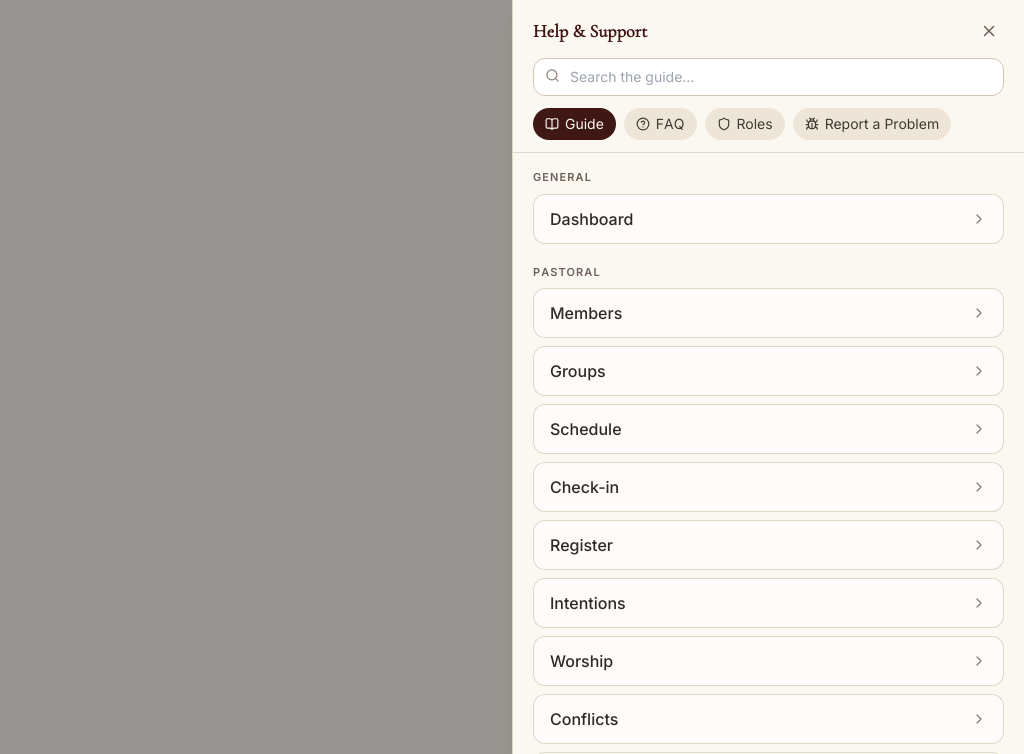
Test: earlier reports › says nothing when the list is genuinely empty
The image size is (1024, 754).
Click the button "Report a Problem" at (872, 124), box [793,108,951,140]
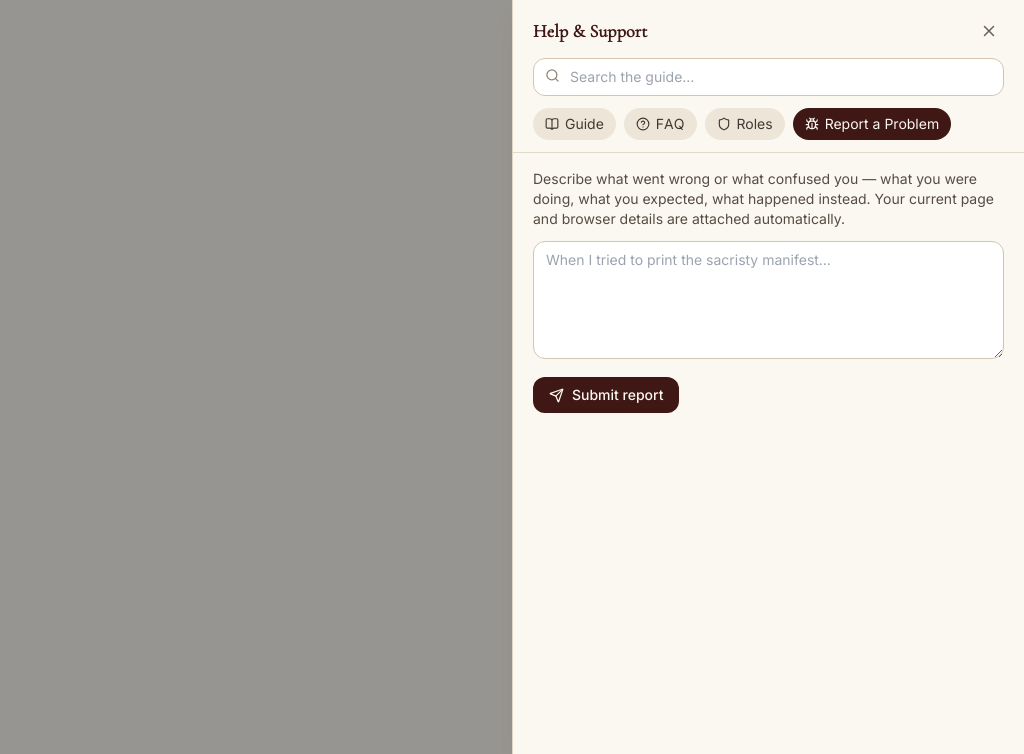
Expected: the text "Describe what went wrong or what confused you — what you were doing, what you expected, what happened instead. Your curr" is shown, [533,170,994,227]
